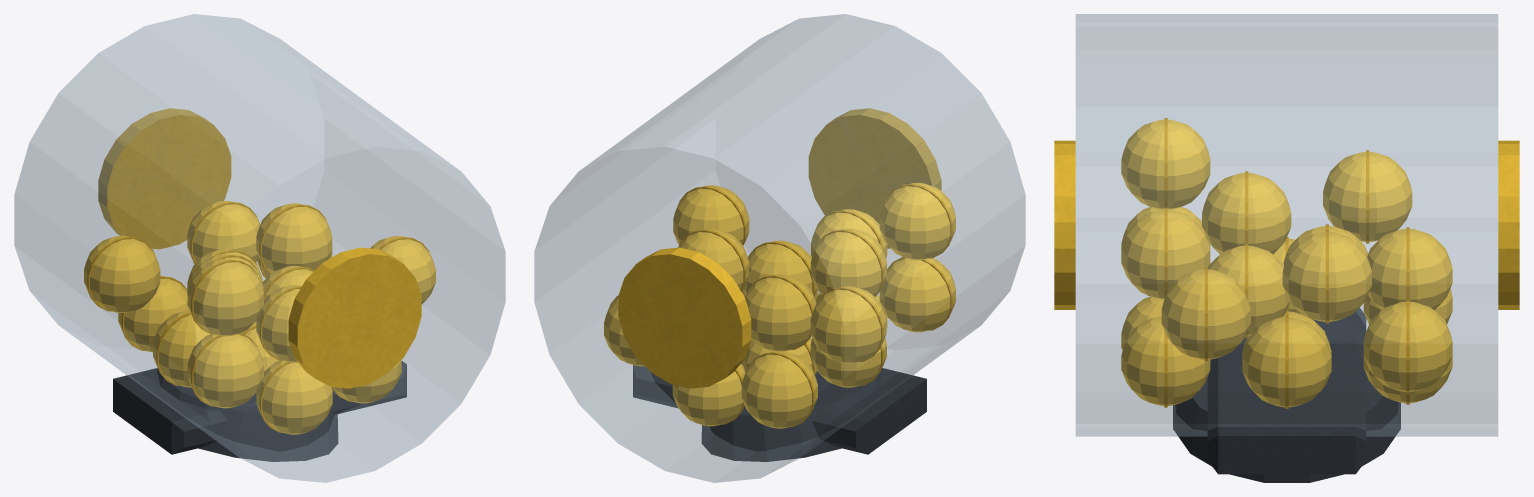
File: hopper_drum_v2.glb
The picture shows the model from 3 angles, left to right: view 1: azimuth 30°, elevation 25°; view 2: azimuth 150°, elevation 25°; view 3: azimuth 270°, elevation 25°; orthographic projection. The views are drawn at different scales.
Visible parts, largest first — view 1: hopper_drum_mesh, paintball_17, paintball_13, paintball_07, paintball_16, paintball_01, paintball_12, paintball_03, paintball_05, paintball_11, paintball_14, paintball_04 (+1 smaller); view 2: hopper_drum_mesh, paintball_13, paintball_17, paintball_03, paintball_07, paintball_09, paintball_15, paintball_14, paintball_02, paintball_10, paintball_16, paintball_05 (+3 smaller); view 3: hopper_drum_mesh, paintball_14, paintball_06, paintball_08, paintball_16, paintball_17, paintball_13, paintball_11, paintball_15, paintball_12, paintball_04, paintball_10 (+4 smaller).
Part boxes in pixels (x1,y1,x2,y2): hopper_drum_mesh: (14,14,505,482); paintball_17: (187,258,263,336); paintball_13: (84,235,160,312); paintball_07: (187,333,263,408); paintball_16: (256,203,332,274); paintball_01: (256,360,332,434); paintball_12: (187,200,260,263); paintball_03: (118,275,189,352); paintball_05: (153,310,210,387); paintball_11: (256,285,301,362); paintball_14: (370,236,435,304); paintball_04: (331,360,401,403); hopper_drum_mesh: (534,14,1025,482); paintball_13: (810,286,886,363); paintball_17: (879,182,955,260); paintball_03: (741,351,817,428); paintball_07: (879,257,955,332); paintball_09: (745,274,816,351); paintball_15: (810,228,886,296); paintball_14: (673,185,749,245); paintball_02: (672,364,745,426); paintball_10: (743,240,817,296); paintball_16: (678,228,749,291); paintball_05: (810,337,886,387); hopper_drum_mesh: (1054,14,1519,482); paintball_14: (1161,267,1250,361); paintball_06: (1242,315,1331,408); paintball_08: (1363,300,1452,393); paintball_16: (1282,230,1371,323); paintball_17: (1121,118,1210,209); paintball_13: (1323,150,1412,243); paintball_11: (1121,207,1210,299); paintball_15: (1202,171,1291,254); paintball_12: (1367,227,1452,310); paintball_04: (1121,316,1210,407); paintball_10: (1208,244,1289,337).
Size of the model in its own units: 0.079 by 0.0857 by 0.088.
5 materials, 2 textured.
